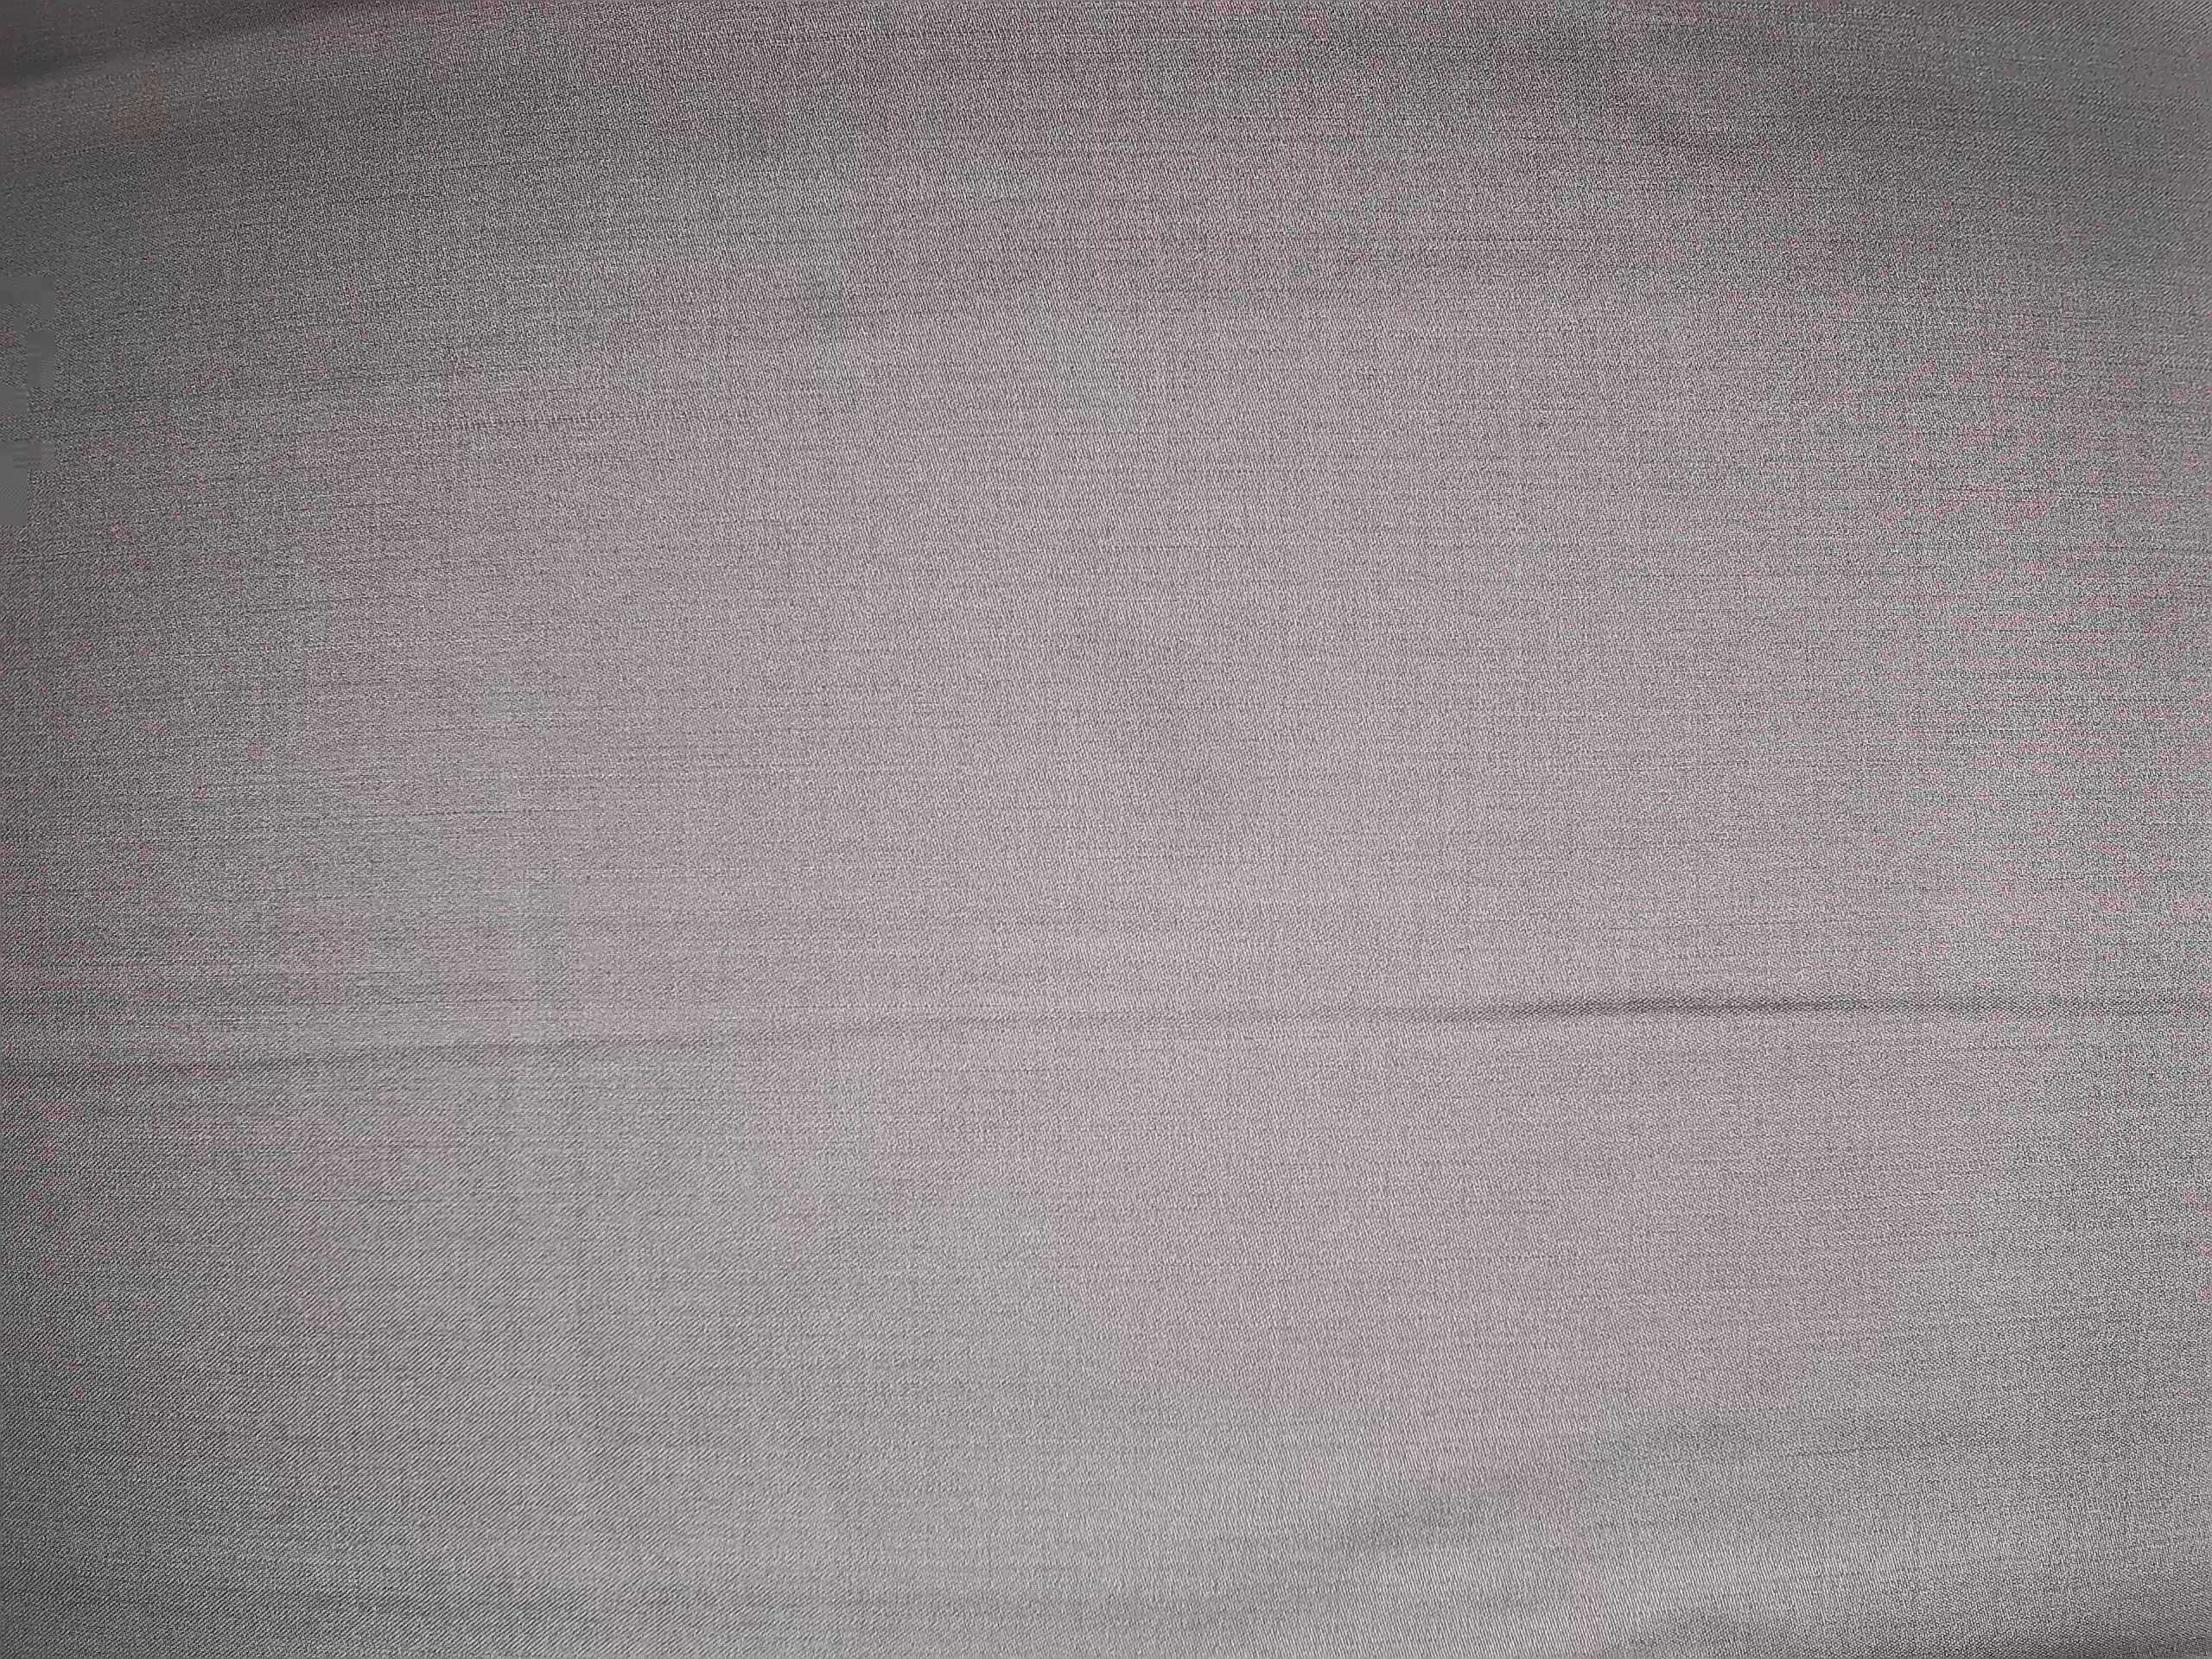others: (1022, 575, 1307, 885)
